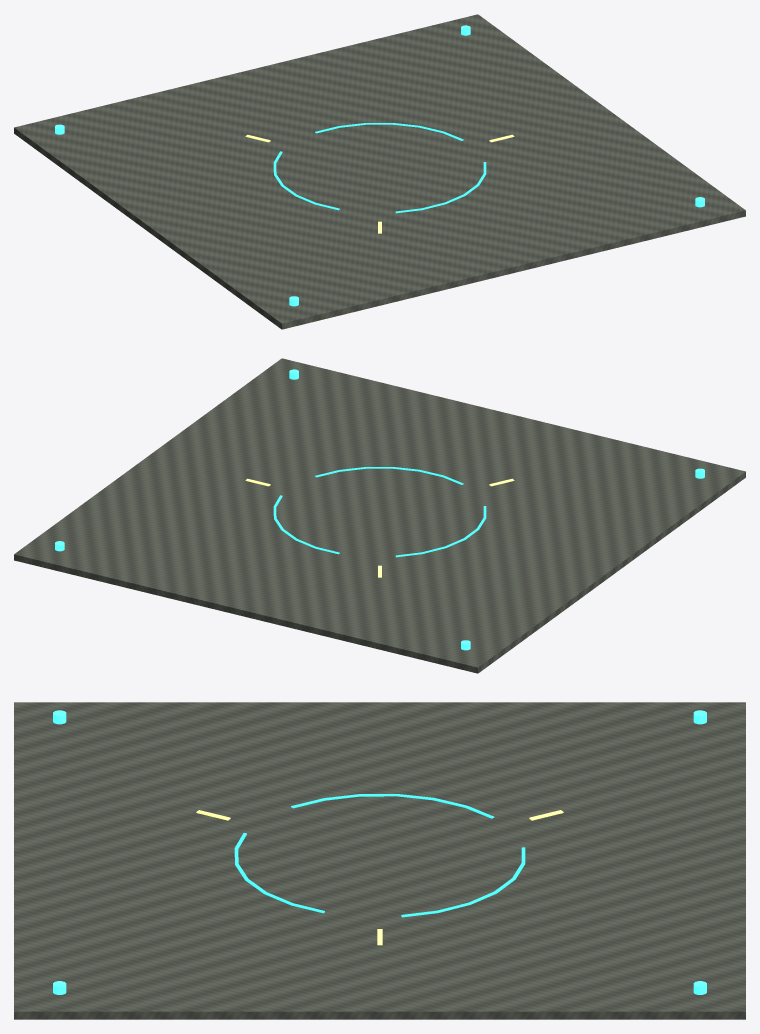
The model's file is Airfield_LandingPad_16m.glb.
3 renders of one model, top to bottom at view 1: azimuth 30°, elevation 25°; view 2: azimuth 150°, elevation 25°; view 3: azimuth 270°, elevation 25°, orthographic. The views are drawn at different scales.
Parts seen in each view (by area): view 1: Airfield_LandingPad_16m_Deck_0_0, Airfield_LandingPad_16m_Deck_1_0, Airfield_LandingPad_16m_Deck_2_0, Airfield_LandingPad_16m_Deck_3_0, Airfield_LandingPad_16m_Deck_0_2, Airfield_LandingPad_16m_Deck_0_1, Airfield_LandingPad_16m_Deck_0_3, Airfield_LandingPad_16m_Deck_2_3, Airfield_LandingPad_16m_Deck_1_3, Airfield_LandingPad_16m_Deck_3_1, Airfield_LandingPad_16m_Deck_3_2, Airfield_LandingPad_16m_Deck_3_3 (+5 smaller); view 2: Airfield_LandingPad_16m_Deck_0_3, Airfield_LandingPad_16m_Deck_1_3, Airfield_LandingPad_16m_Deck_2_3, Airfield_LandingPad_16m_Deck_3_3, Airfield_LandingPad_16m_Deck_0_1, Airfield_LandingPad_16m_Deck_0_2, Airfield_LandingPad_16m_Deck_0_0, Airfield_LandingPad_16m_Deck_2_0, Airfield_LandingPad_16m_Deck_1_0, Airfield_LandingPad_16m_Deck_3_2, Airfield_LandingPad_16m_Deck_3_1, Airfield_LandingPad_16m_Deck_3_0 (+5 smaller); view 3: Airfield_LandingPad_16m_Deck_3_1, Airfield_LandingPad_16m_Deck_3_2, Airfield_LandingPad_16m_Deck_3_0, Airfield_LandingPad_16m_Deck_3_3, Airfield_LandingPad_16m_Deck_0_1, Airfield_LandingPad_16m_Deck_0_2, Airfield_LandingPad_16m_Deck_1_0, Airfield_LandingPad_16m_Deck_1_3, Airfield_LandingPad_16m_Deck_2_0, Airfield_LandingPad_16m_Deck_2_3, Airfield_LandingPad_16m_Deck_0_0, Airfield_LandingPad_16m_Deck_0_3 (+6 smaller).
Part boxes in pixels (x1,y1,x2,y2): Airfield_LandingPad_16m_Deck_0_0: (215, 246, 397, 329); Airfield_LandingPad_16m_Deck_1_0: (331, 218, 513, 301); Airfield_LandingPad_16m_Deck_2_0: (447, 189, 629, 272); Airfield_LandingPad_16m_Deck_3_0: (563, 161, 745, 244); Airfield_LandingPad_16m_Deck_0_2: (81, 148, 263, 231); Airfield_LandingPad_16m_Deck_0_1: (148, 197, 330, 280); Airfield_LandingPad_16m_Deck_0_3: (14, 99, 196, 182); Airfield_LandingPad_16m_Deck_2_3: (246, 42, 428, 119); Airfield_LandingPad_16m_Deck_1_3: (130, 71, 312, 147); Airfield_LandingPad_16m_Deck_3_1: (497, 112, 678, 189); Airfield_LandingPad_16m_Deck_3_2: (429, 63, 611, 138); Airfield_LandingPad_16m_Deck_3_3: (362, 14, 544, 91); Airfield_LandingPad_16m_Deck_0_3: (362, 590, 544, 673); Airfield_LandingPad_16m_Deck_1_3: (246, 562, 428, 645); Airfield_LandingPad_16m_Deck_2_3: (130, 533, 312, 616); Airfield_LandingPad_16m_Deck_3_3: (14, 505, 196, 588); Airfield_LandingPad_16m_Deck_0_1: (496, 492, 678, 575); Airfield_LandingPad_16m_Deck_0_2: (429, 541, 611, 624); Airfield_LandingPad_16m_Deck_0_0: (563, 443, 745, 526); Airfield_LandingPad_16m_Deck_2_0: (331, 386, 513, 463); Airfield_LandingPad_16m_Deck_1_0: (447, 415, 629, 491); Airfield_LandingPad_16m_Deck_3_2: (81, 456, 262, 533); Airfield_LandingPad_16m_Deck_3_1: (148, 407, 330, 482); Airfield_LandingPad_16m_Deck_3_0: (215, 358, 397, 435); Airfield_LandingPad_16m_Deck_3_1: (197, 934, 379, 1019); Airfield_LandingPad_16m_Deck_3_2: (380, 934, 562, 1019); Airfield_LandingPad_16m_Deck_3_0: (14, 934, 196, 1019); Airfield_LandingPad_16m_Deck_3_3: (563, 934, 745, 1019); Airfield_LandingPad_16m_Deck_0_1: (197, 702, 379, 779); Airfield_LandingPad_16m_Deck_0_2: (380, 702, 562, 779); Airfield_LandingPad_16m_Deck_1_0: (14, 779, 196, 856); Airfield_LandingPad_16m_Deck_1_3: (563, 779, 745, 856); Airfield_LandingPad_16m_Deck_2_0: (14, 857, 196, 934); Airfield_LandingPad_16m_Deck_2_3: (563, 857, 745, 934); Airfield_LandingPad_16m_Deck_0_0: (14, 702, 196, 779); Airfield_LandingPad_16m_Deck_0_3: (563, 702, 745, 779).
Bounding box in the file's own units: 16 × 0.4 × 16.
4 materials, 1 textured.
